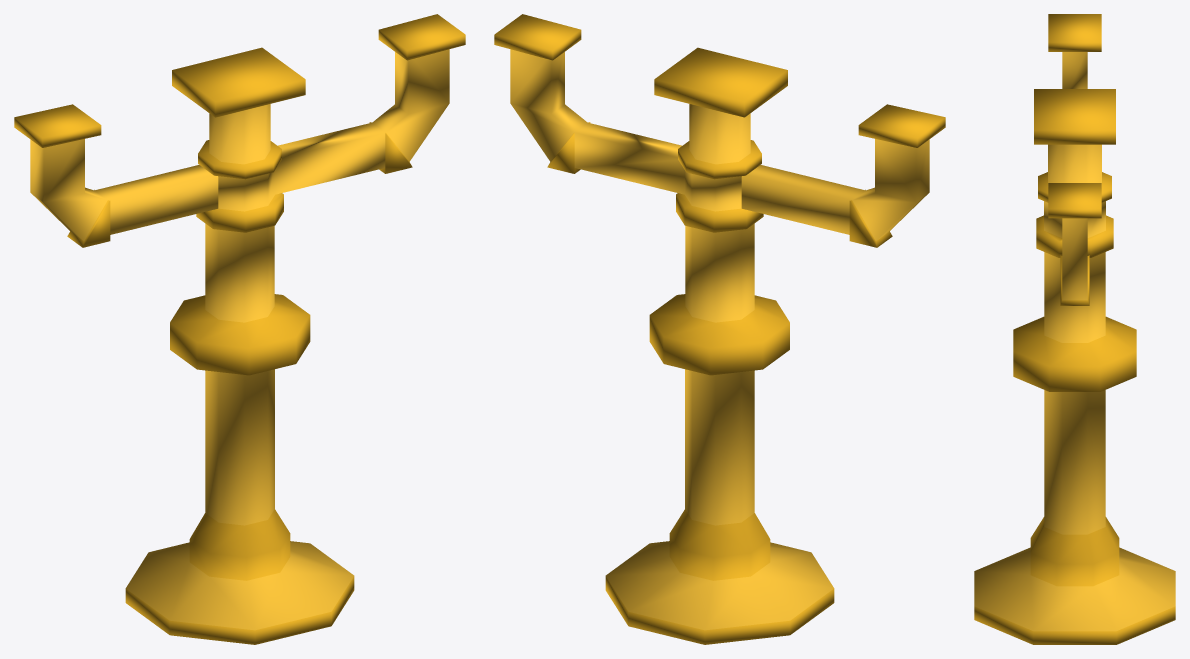
File: chandelier.glb
3 views of the same model, side by side, from view 1: azimuth 30°, elevation 25°; view 2: azimuth 150°, elevation 25°; view 3: azimuth 270°, elevation 25° (orthographic). The views are drawn at different scales.
Visible parts, largest first — view 1: Chandelier_01; view 2: Chandelier_01; view 3: Chandelier_01.
Part boxes in pixels (x1,y1,x2,y2): Chandelier_01: (14, 14, 465, 644); Chandelier_01: (494, 14, 945, 644); Chandelier_01: (974, 14, 1175, 644).
Size of what is drawn, in the model's own units: 0.3454 by 0.4073 by 0.1507.
1 material, 1 textured.
